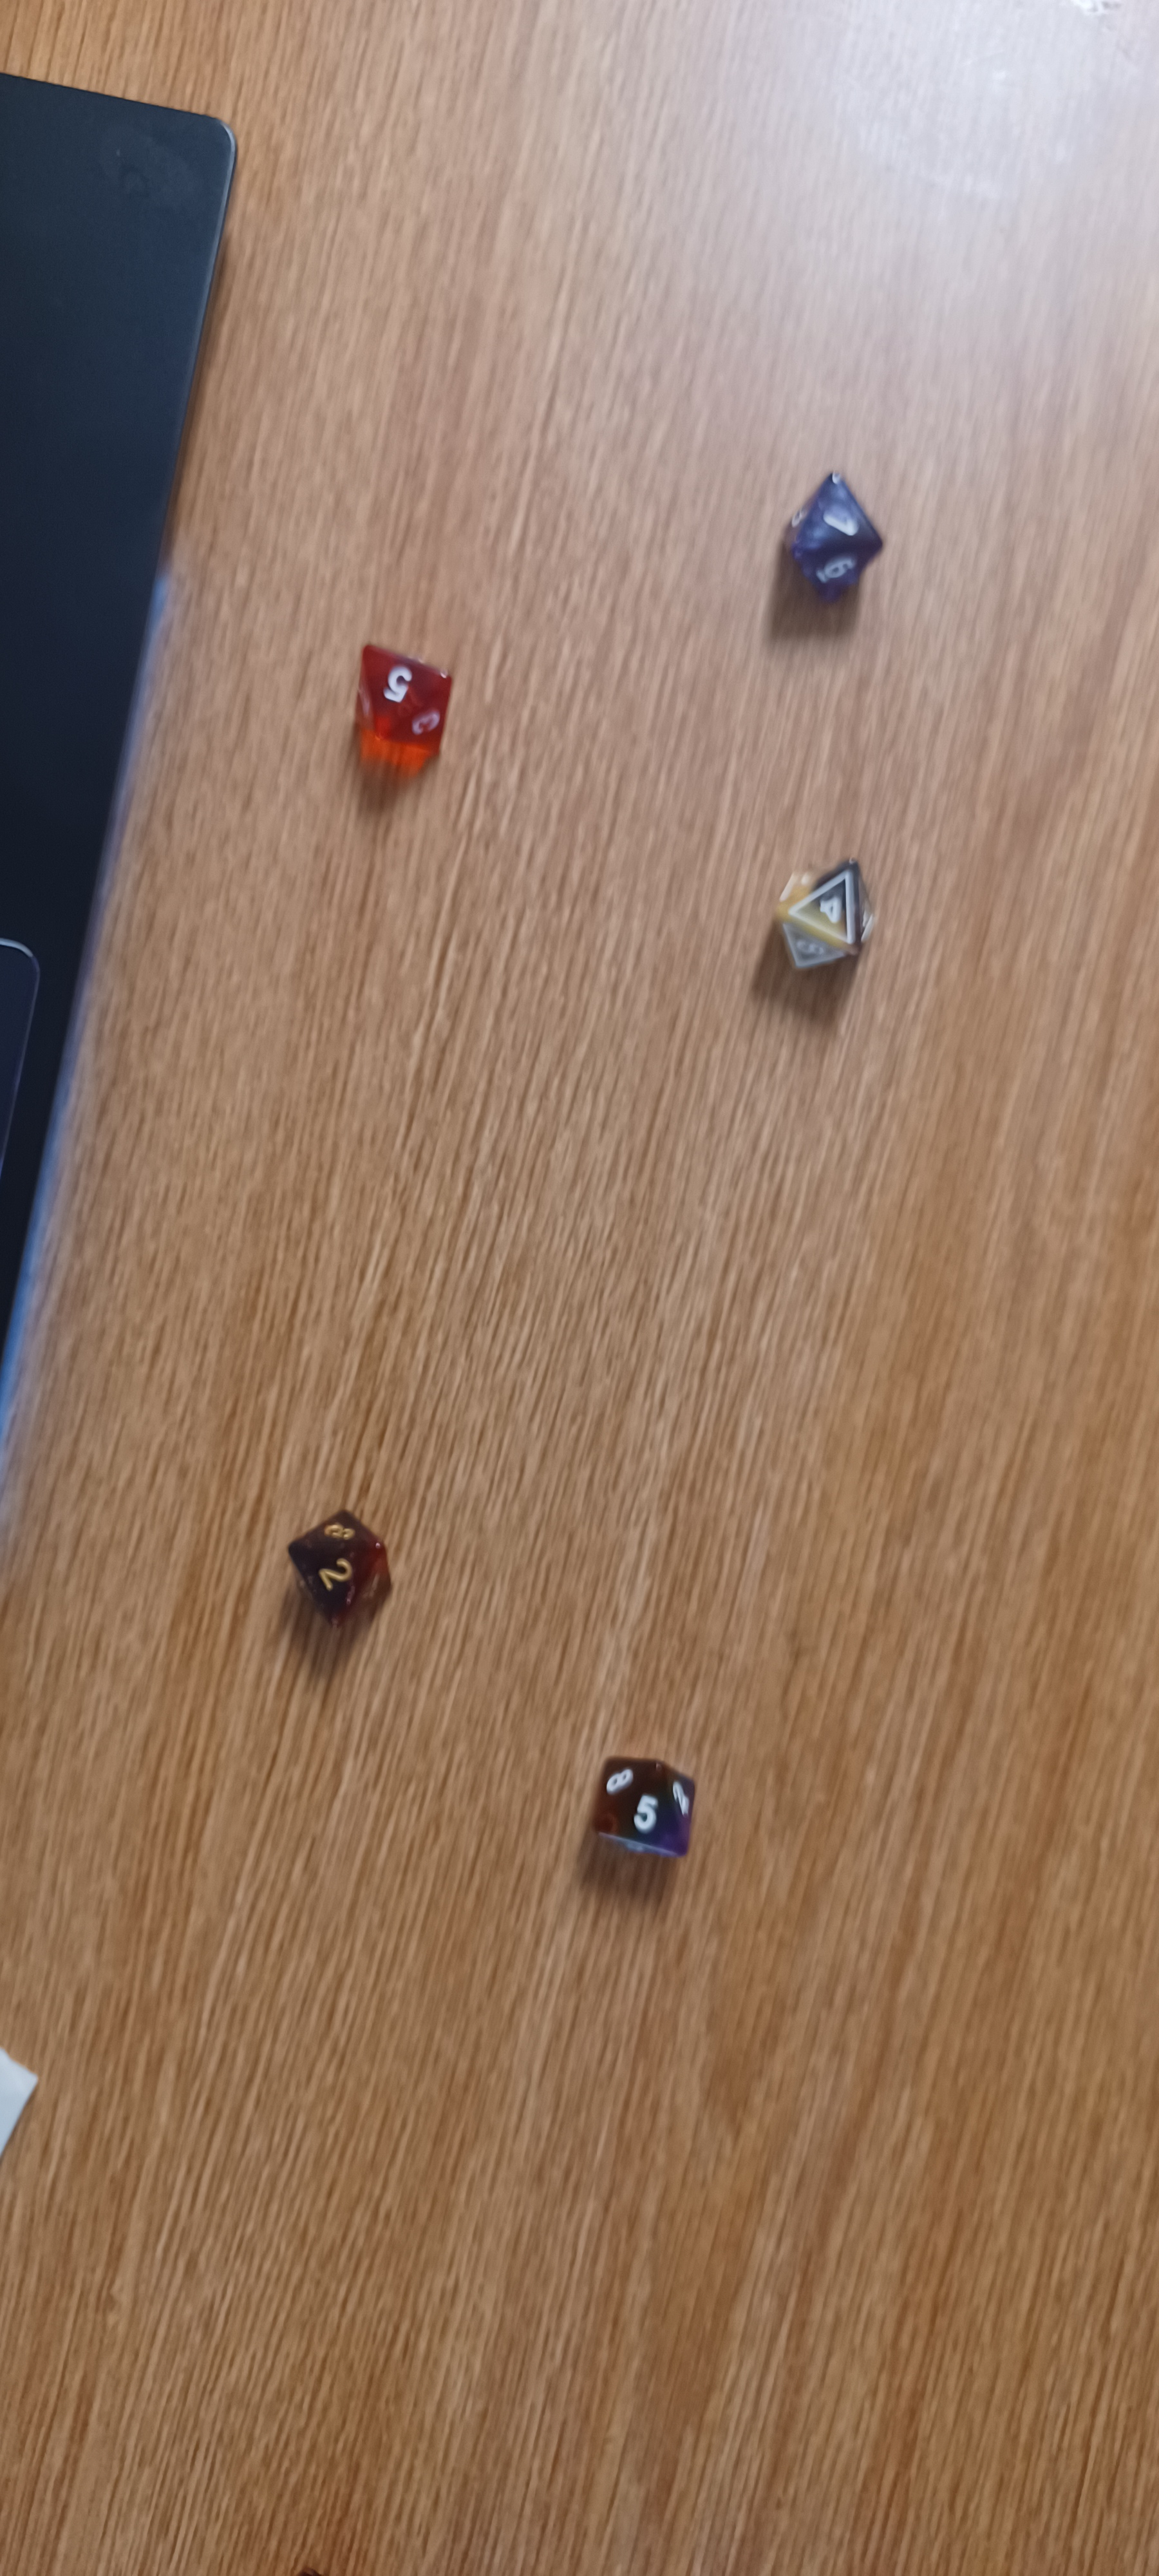five: (287, 605, 511, 797), (553, 1727, 740, 1898)
four: (752, 848, 908, 986)
one: (732, 450, 916, 636)
two: (256, 1487, 424, 1666)
